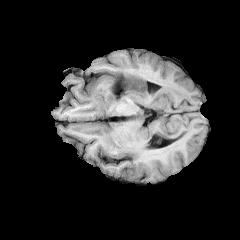glioma: (105, 71, 148, 99)
